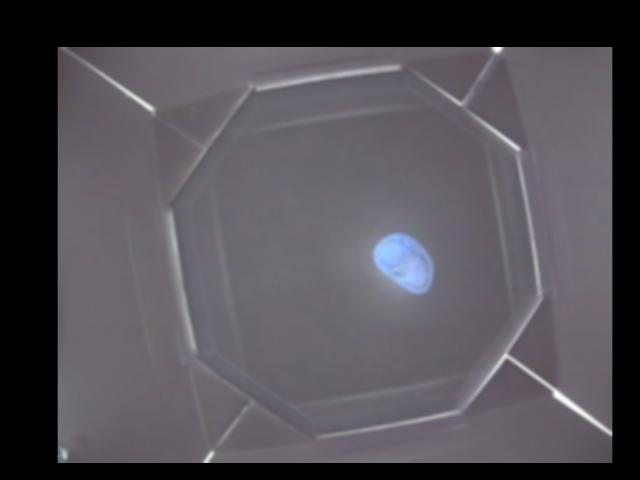Pebble: (373, 231, 435, 296)
